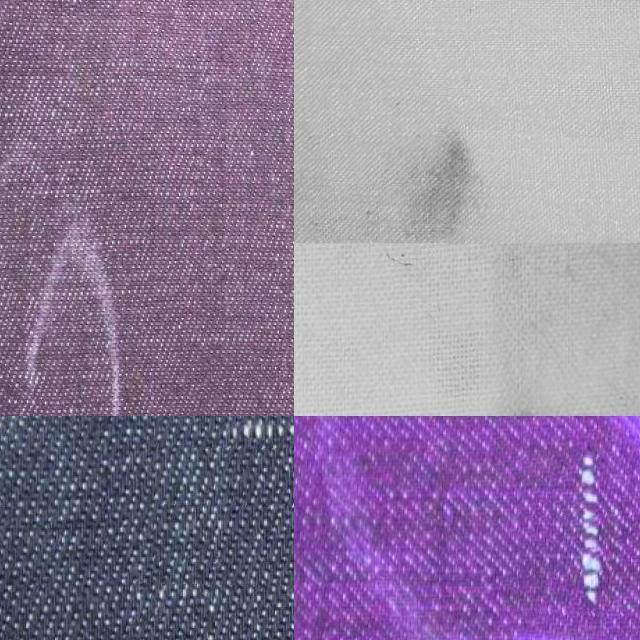Thread_other: (318, 72, 518, 244), (472, 359, 640, 416)
stains: (154, 416, 294, 586), (518, 416, 638, 614), (0, 369, 63, 416)
